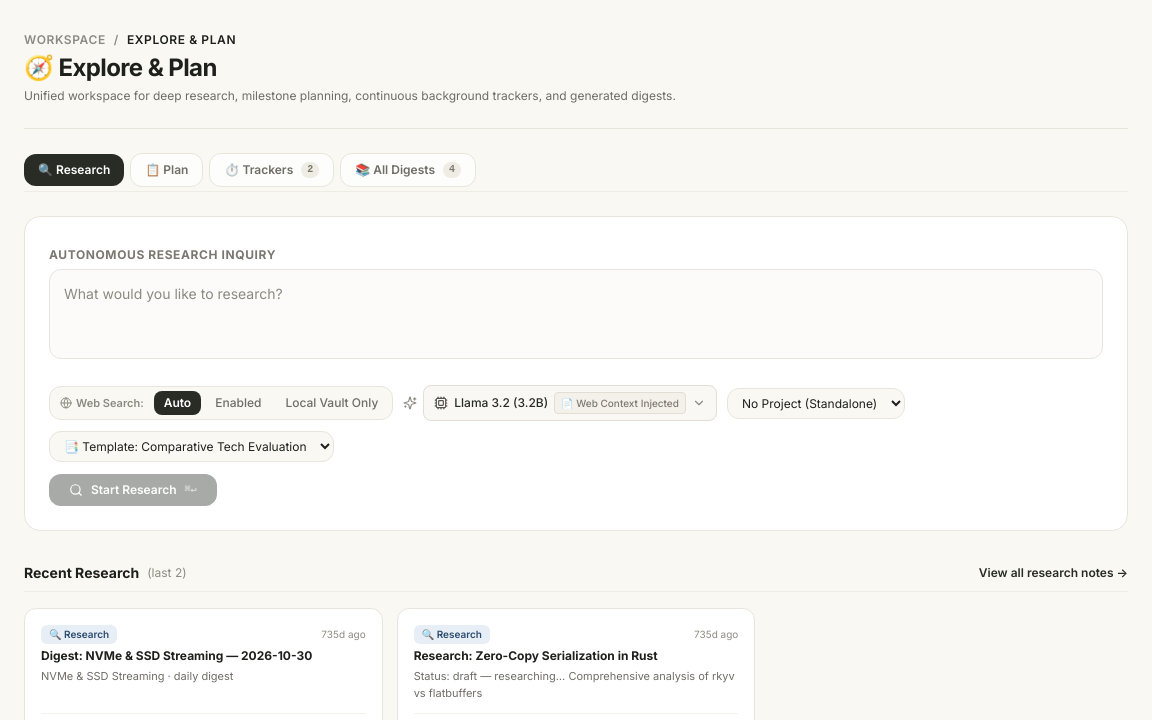
Test: 🧭 Explore & Plan Hub › Step 2: Clicking "View all research notes →" switches to All Digests filtered by research
This screenshot has width=1152, height=720.
Click the button with test id "btn-view-all-research" at x=1053, y=573, box [979,565,1128,581]
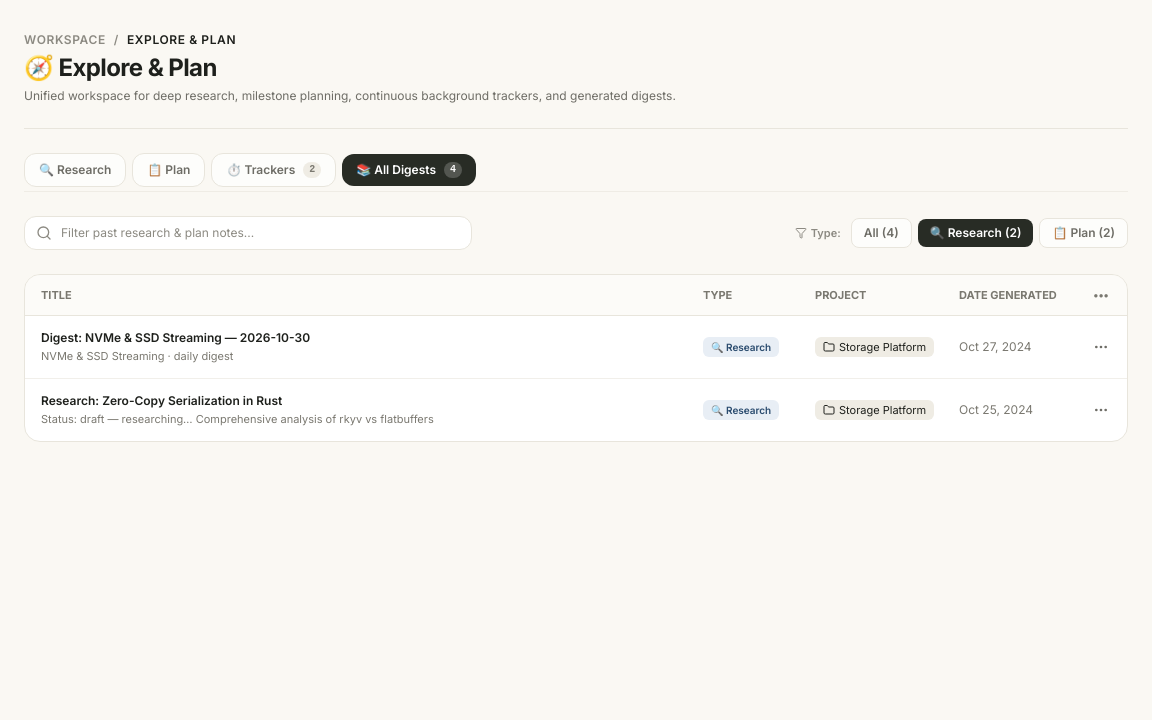
Expected: the text "Research: Zero-Copy Serialization in Rust" is shown, [41,393,282,409]
Result: the element with test id "tab-content-digests" is shown at [24,216,1128,442]
